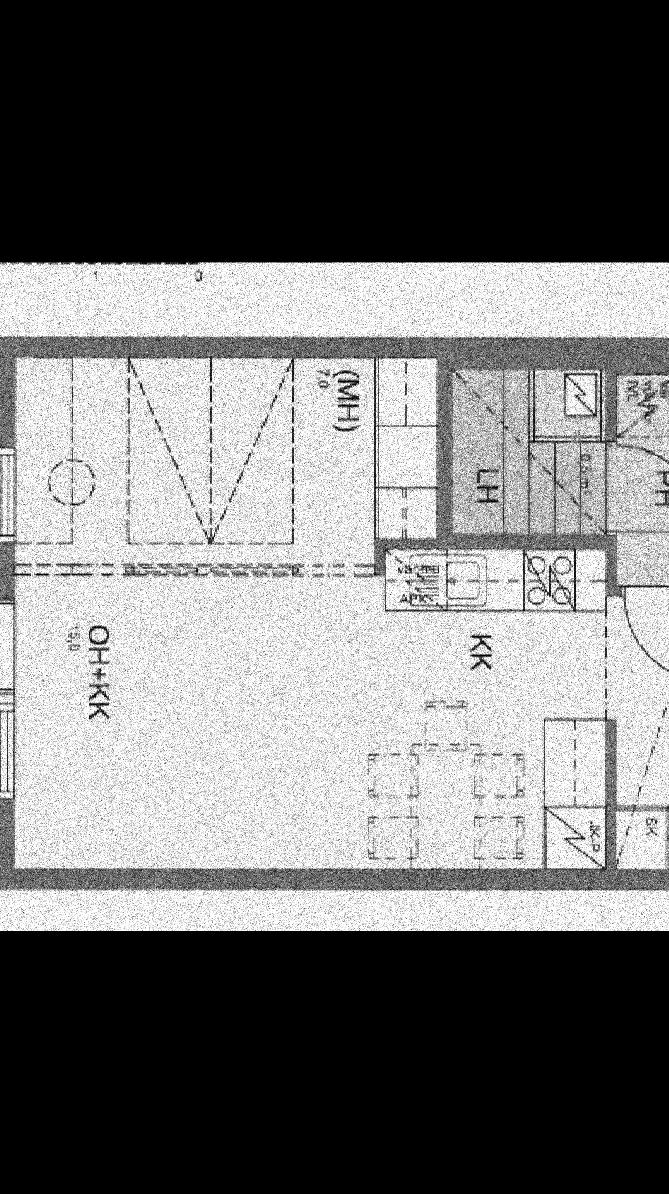door: (593, 442, 669, 532), (609, 576, 669, 686)
window: (0, 447, 19, 543), (0, 691, 11, 804)
zone: (13, 362, 602, 872), (450, 368, 596, 534), (612, 577, 669, 873), (610, 372, 669, 589)
